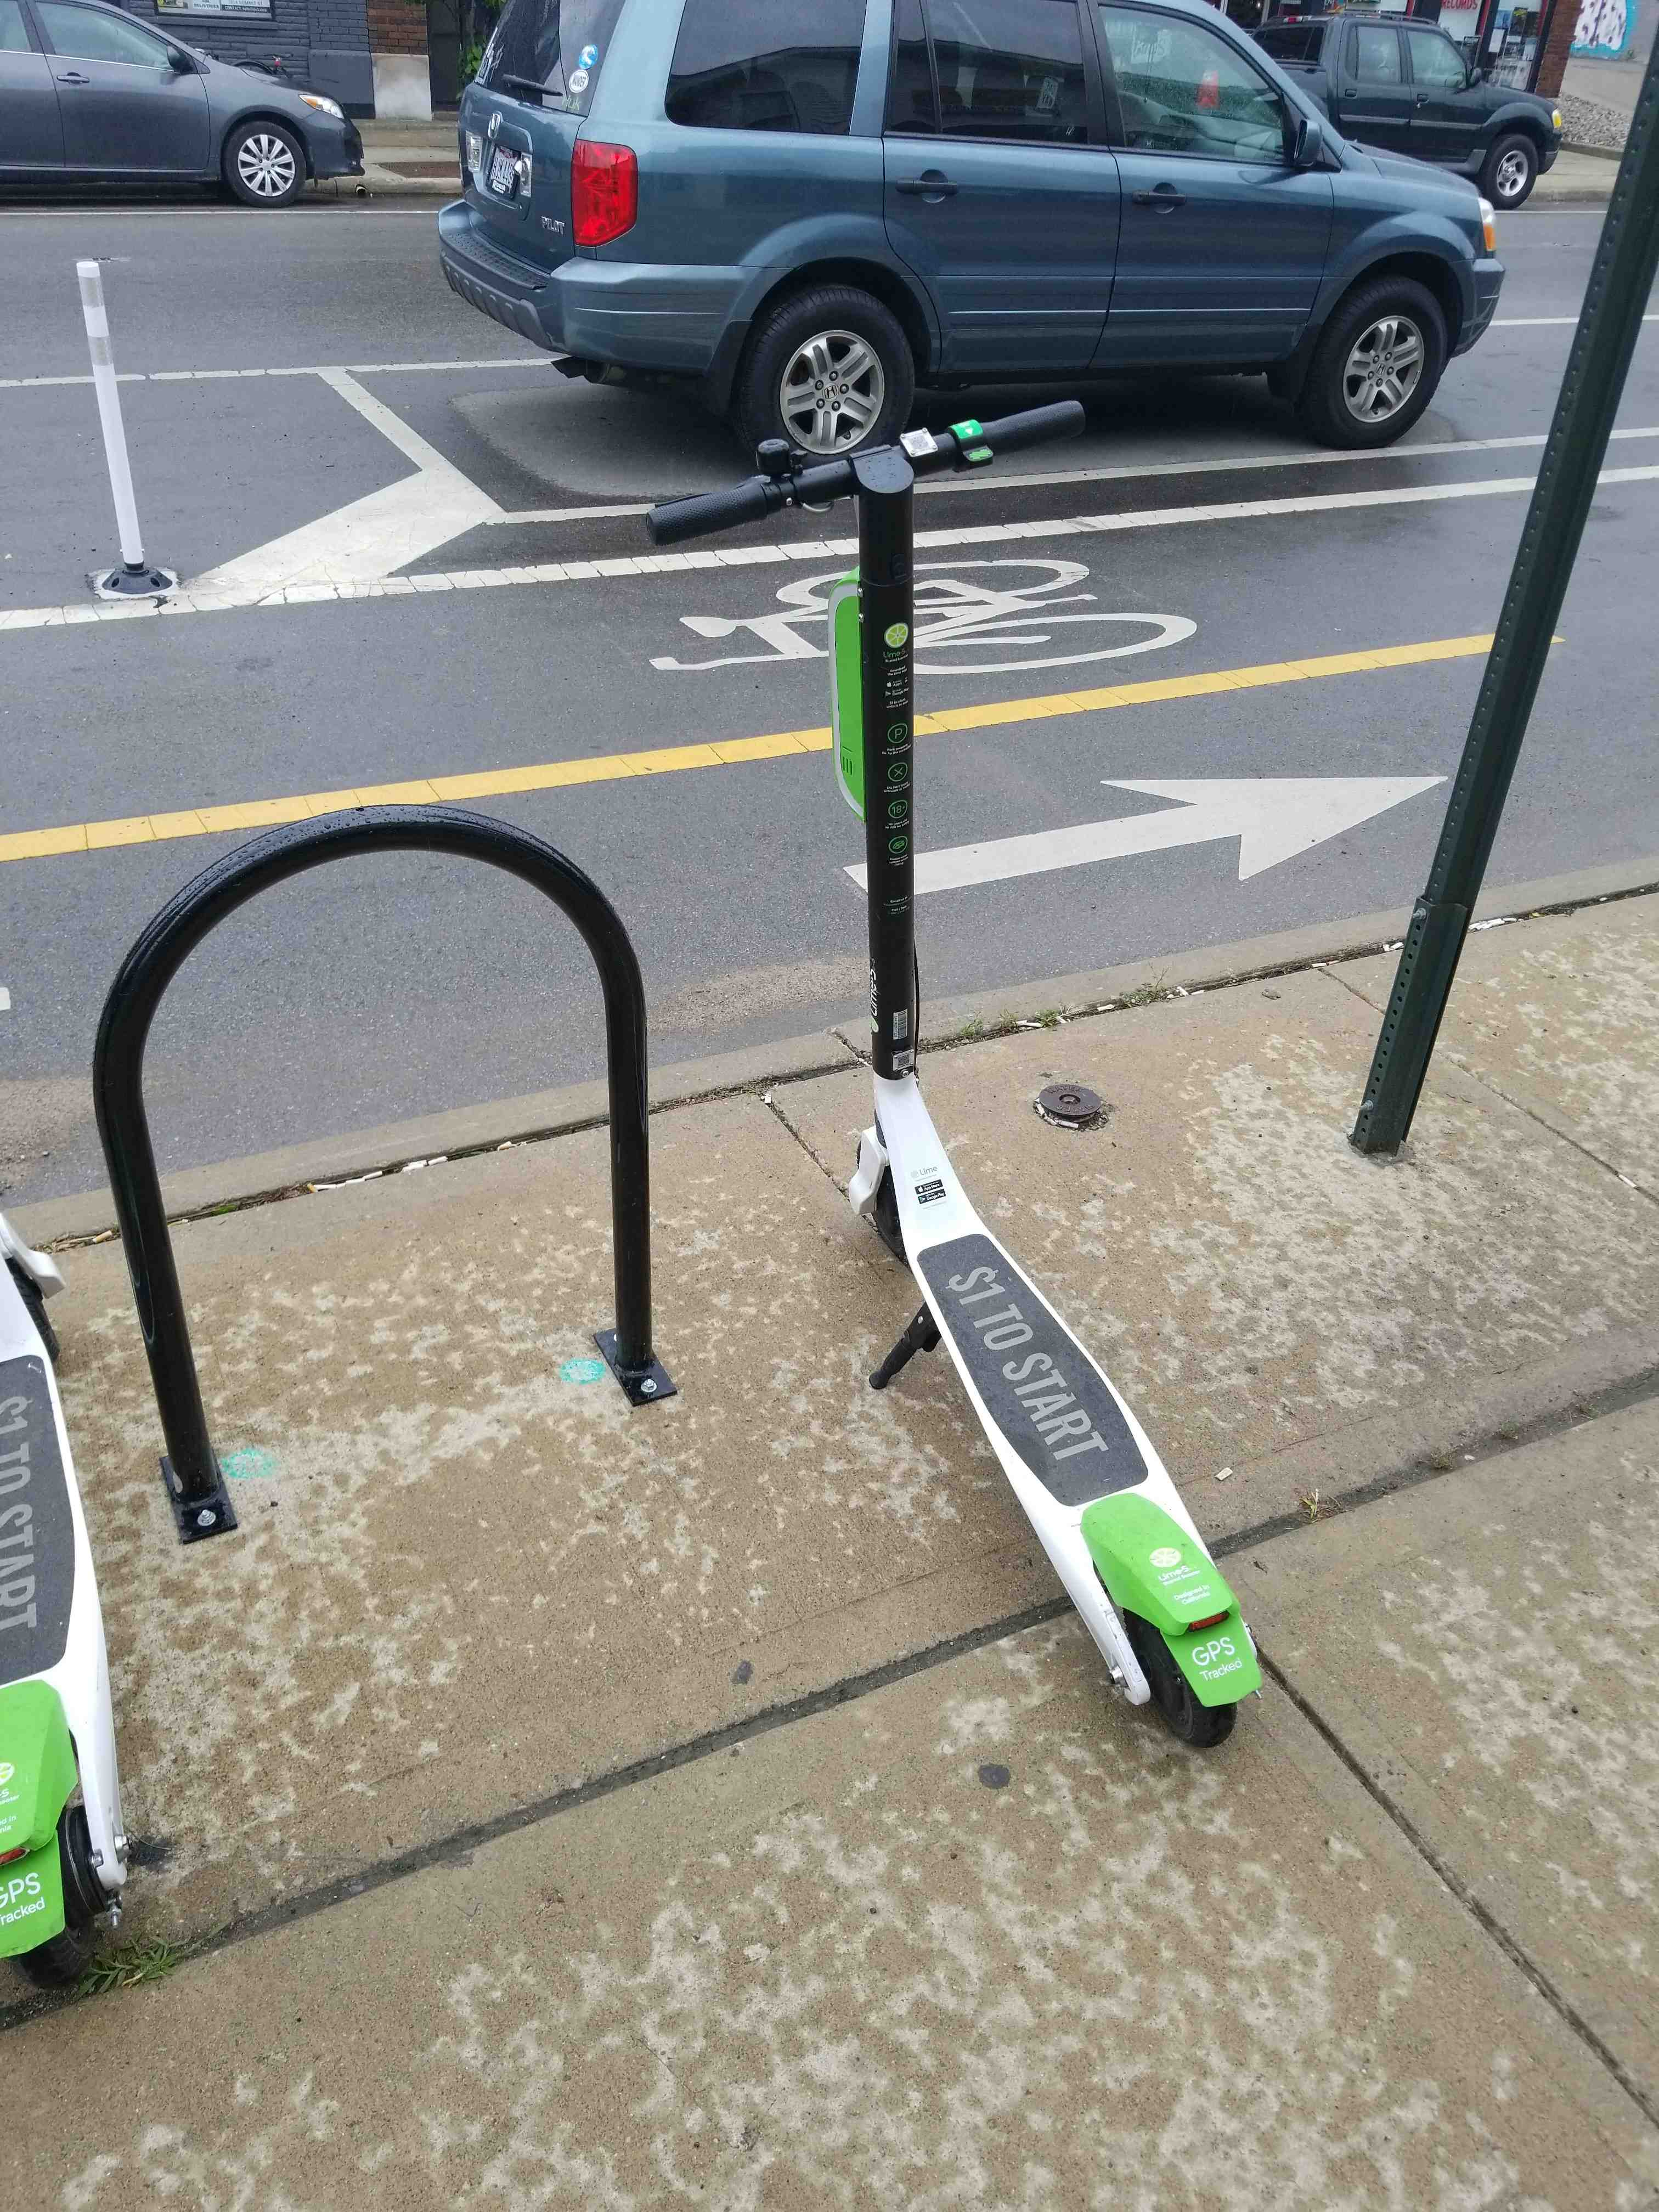scooter: (633, 362, 1328, 1794)
